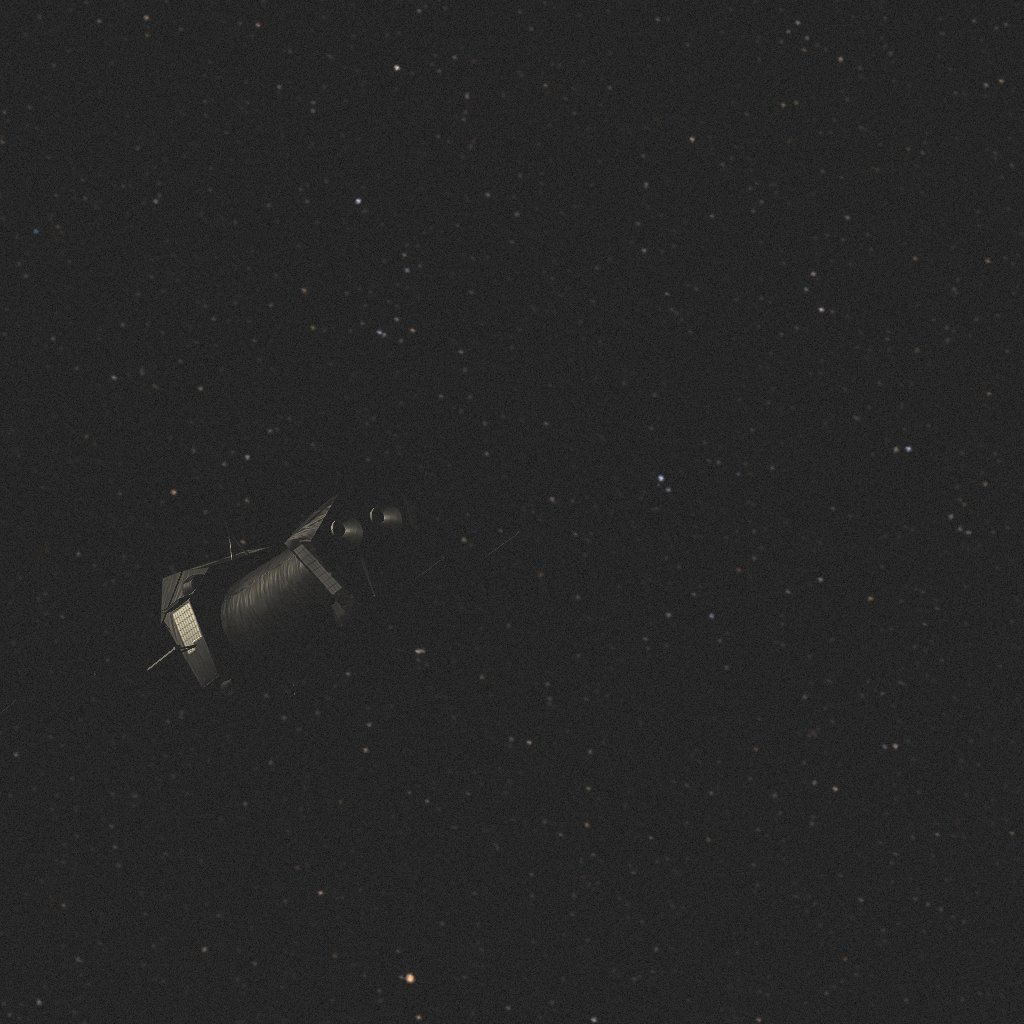xmm_newton: (0, 474, 592, 719)
